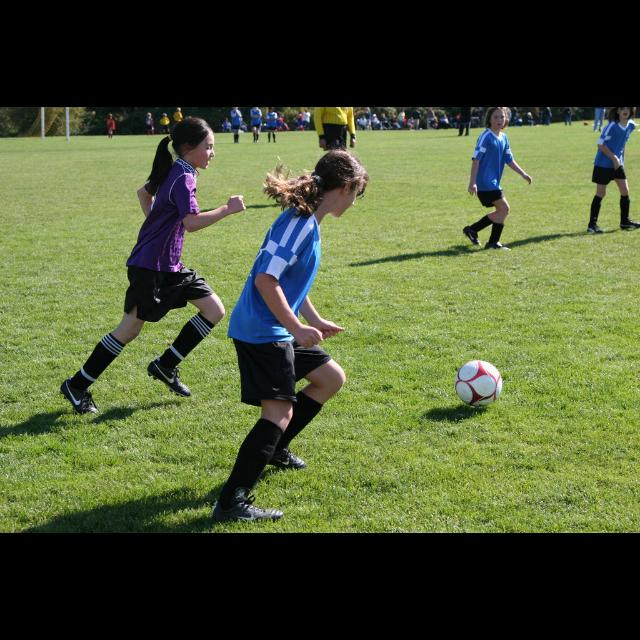Football: (453, 359, 501, 405)
